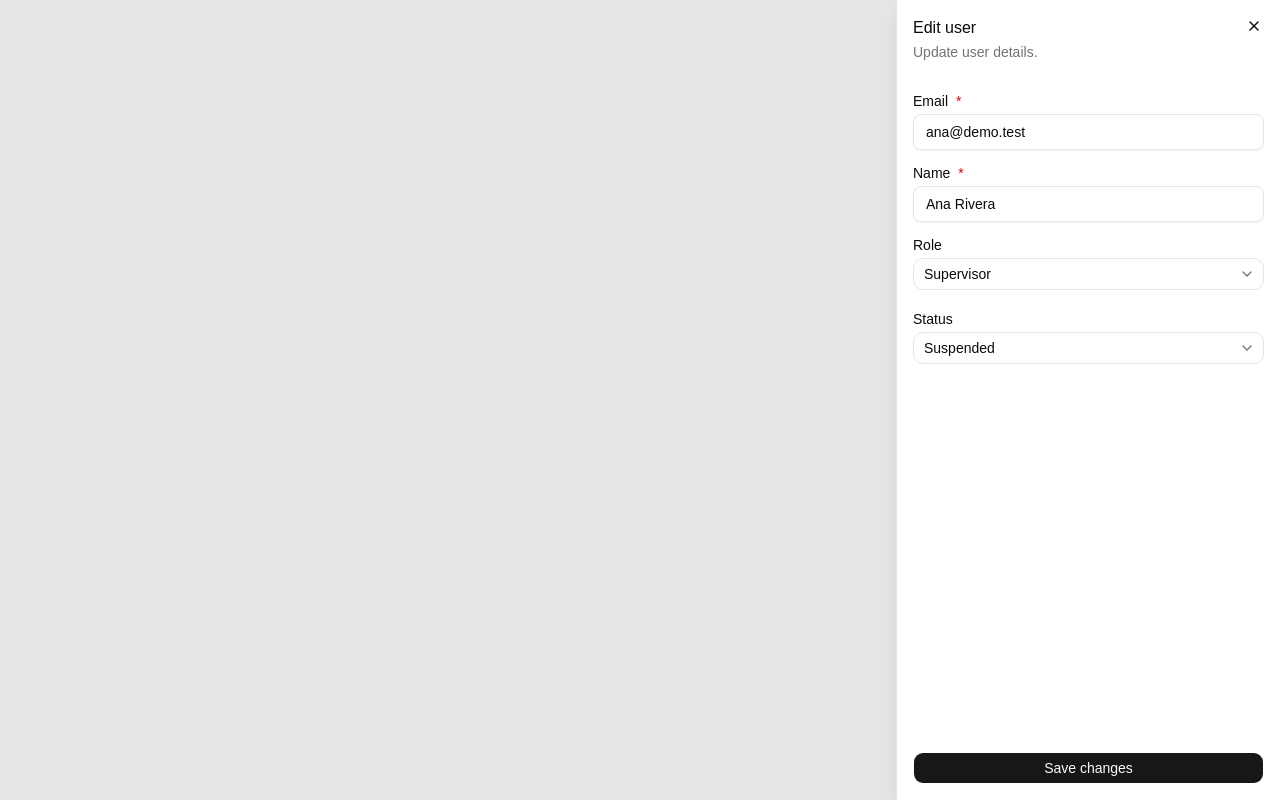
Test case: UserForm leaving-Active hint › UserForm_ShouldNotShowTheHint_WhenTheSelectedStatusIsTheUsersCurrentOne
Click the dropdown with test id "user-form-status": [959, 348] box [913,332,1264,364]
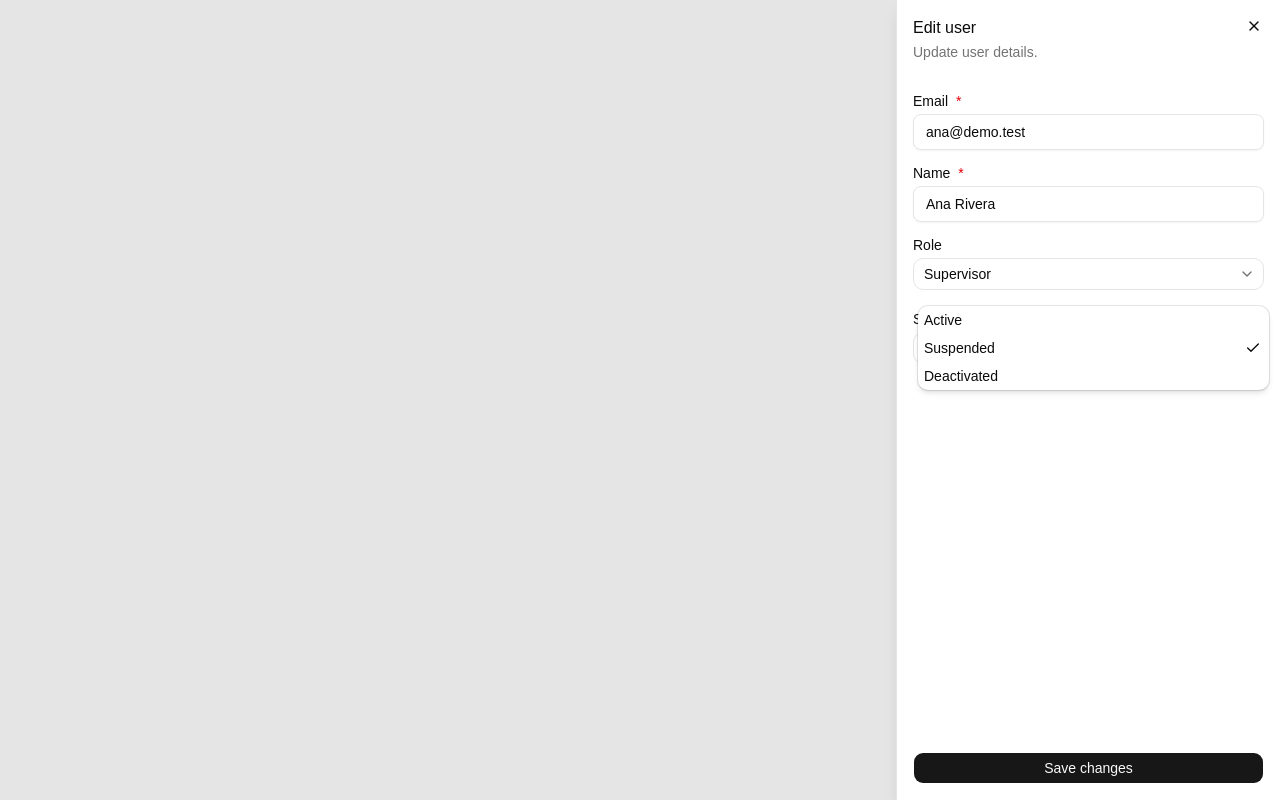
Click the option with test id "user-form-status-option-Deactivated": [961, 376] box [924,368,998,384]
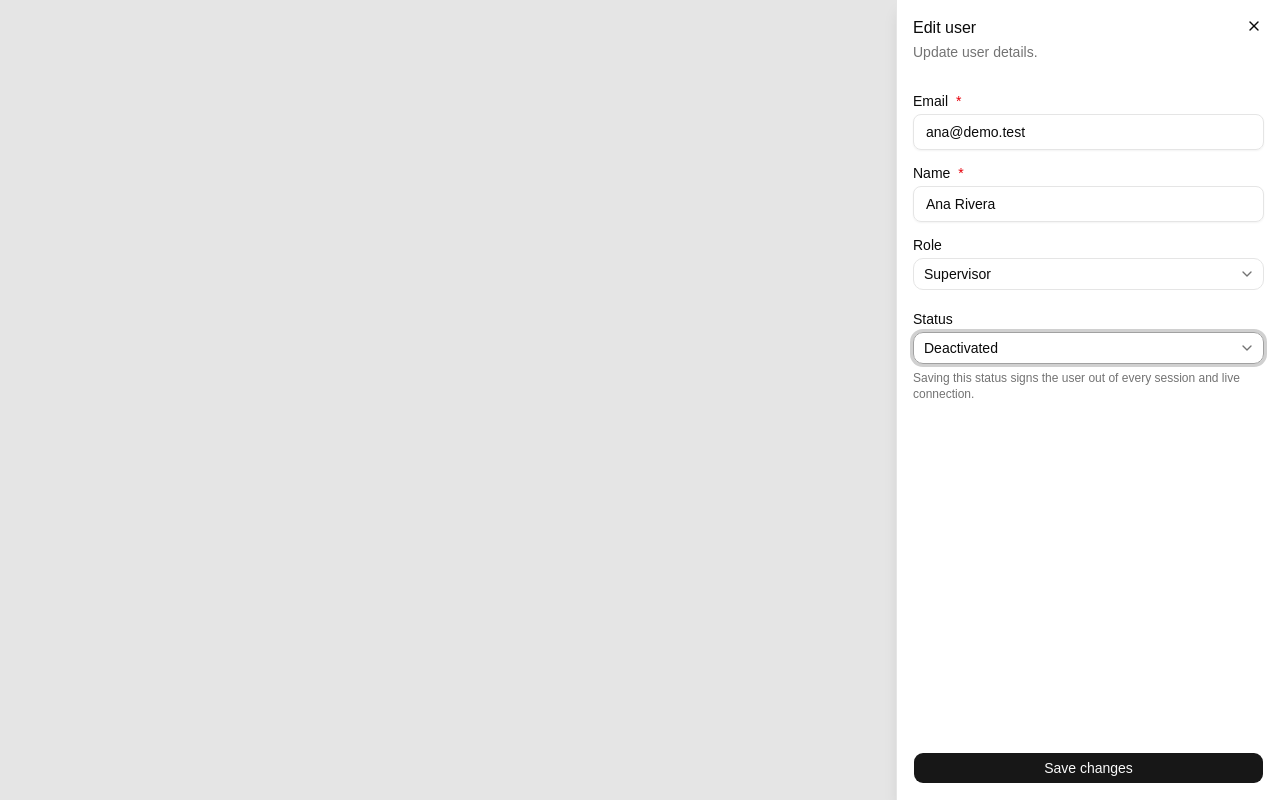
Expected: no options are shown
Click the dropdown with test id "user-form-status": [961, 348] box [913,332,1264,364]
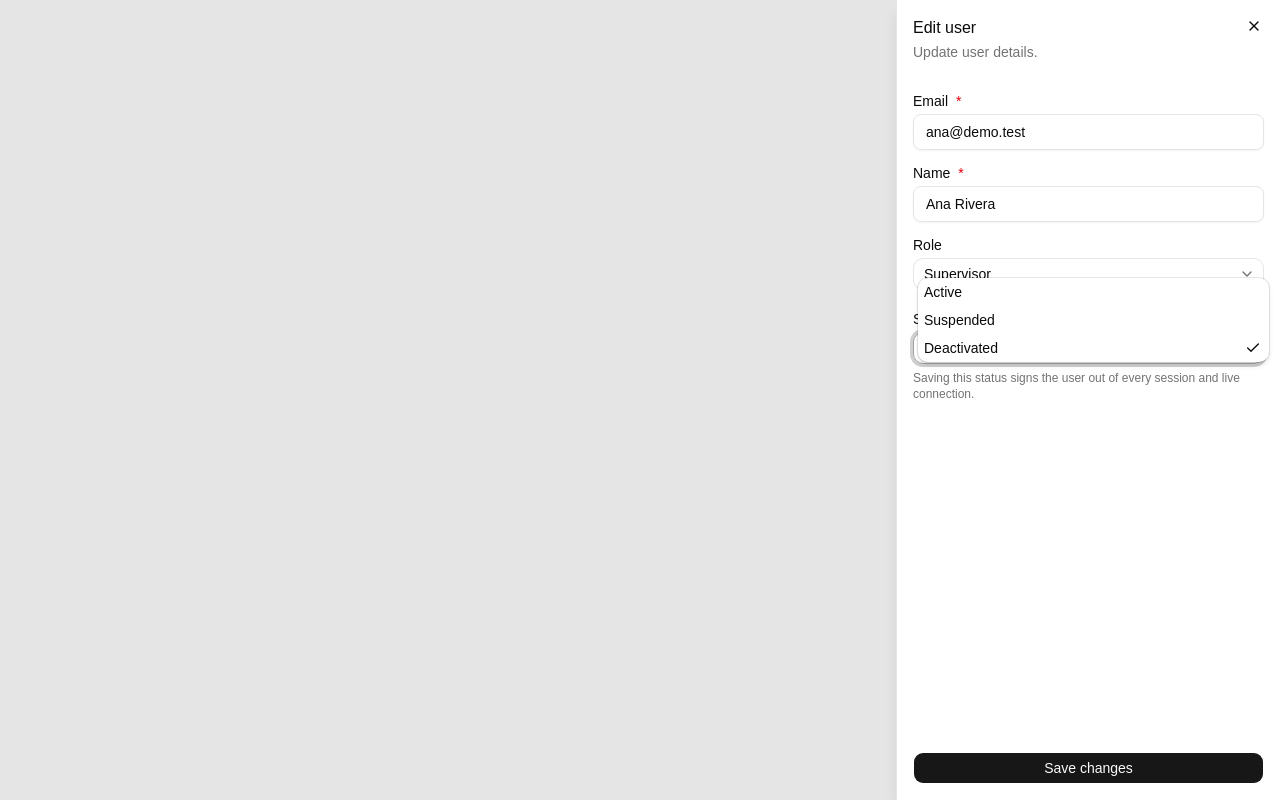
Click the option with test id "user-form-status-option-Suspended": [959, 320] box [924,312,995,328]
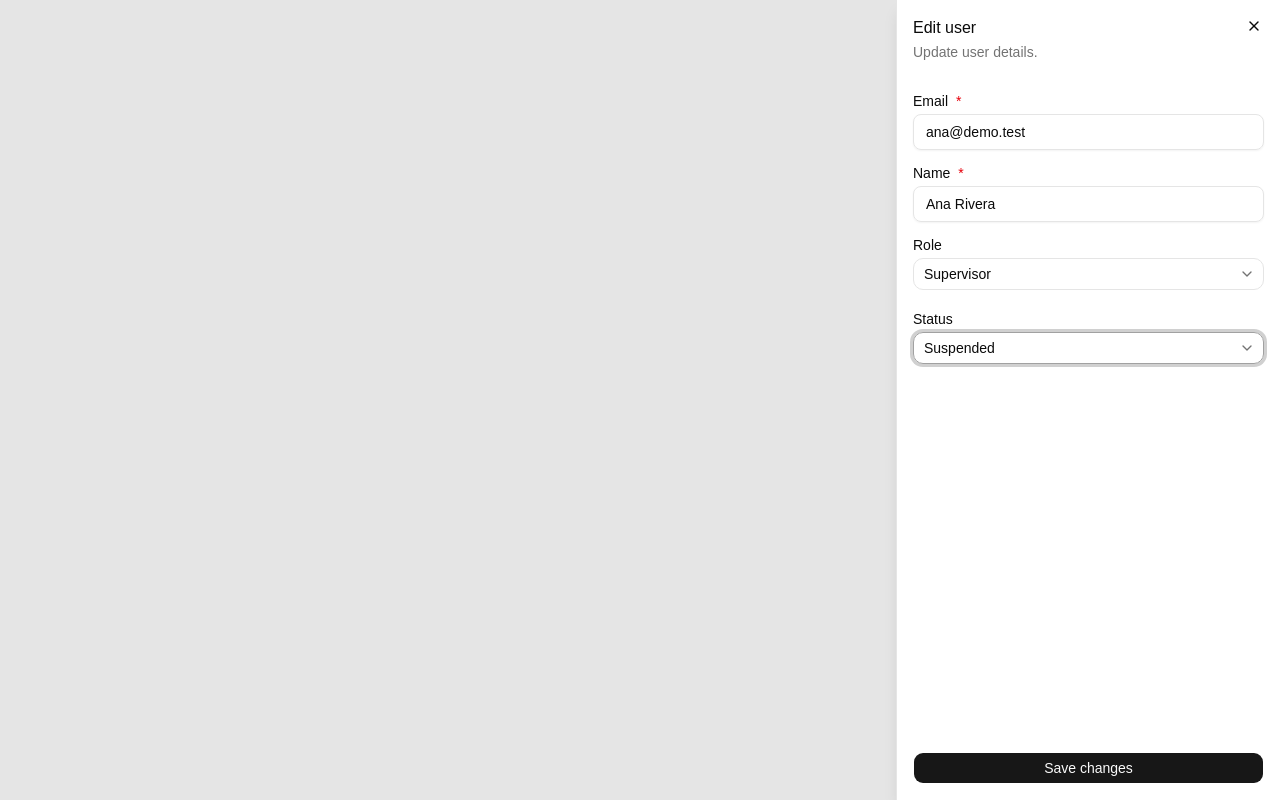
Expected: no options are shown
